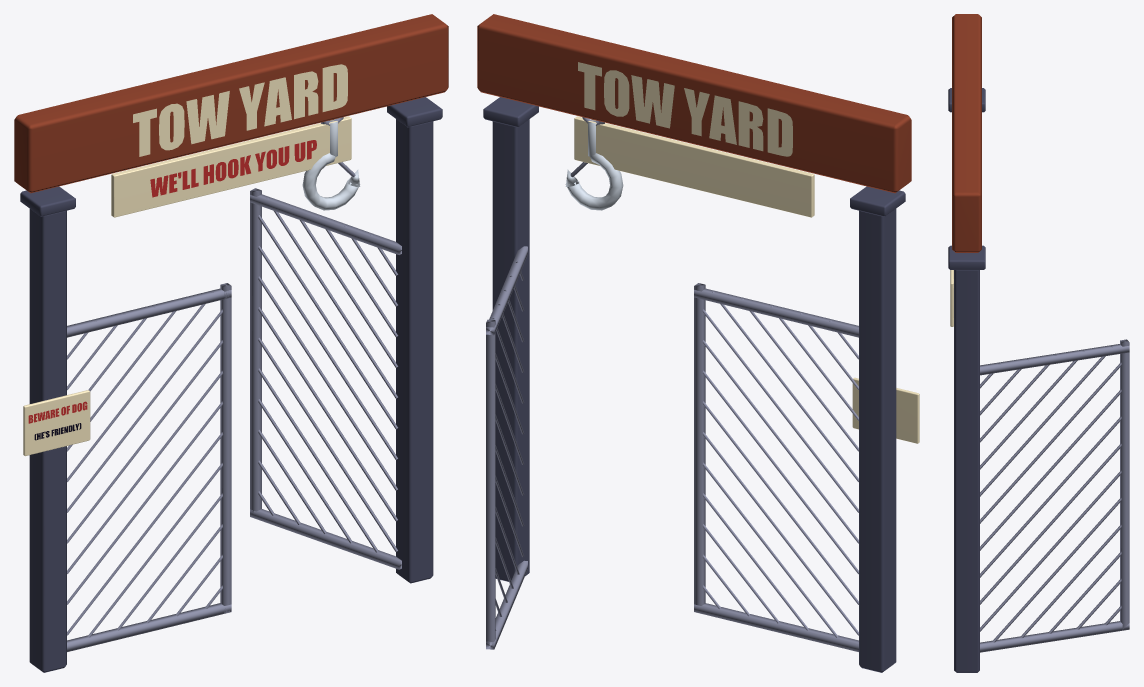
The model's file is tow_gate.glb.
3 renders of one model, left to right at view 1: azimuth 30°, elevation 25°; view 2: azimuth 150°, elevation 25°; view 3: azimuth 270°, elevation 25°, orthographic. The views are drawn at different scales.
Visible parts, largest first — view 1: Gate; view 2: Gate; view 3: Gate.
Boxes of the visible parts, x1,y1,x2,y2 form: Gate: (14,14,448,672); Gate: (477,14,919,672); Gate: (948,14,1129,672).
Bounding box in the file's own units: 2.33 × 2.88 × 0.9714.
